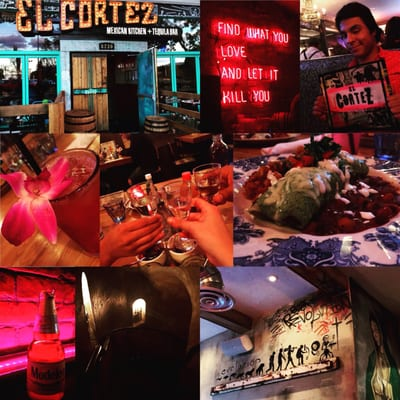pizza: (373, 133, 400, 169)
